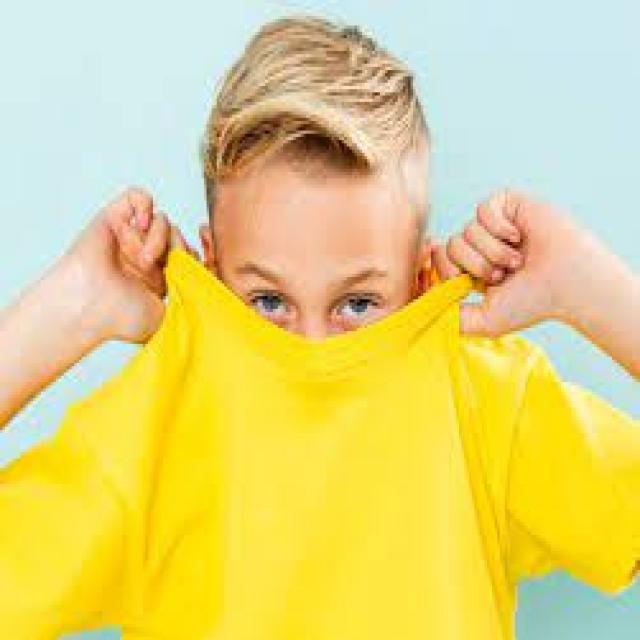8_ropa_rostro: (80, 202, 512, 535)
